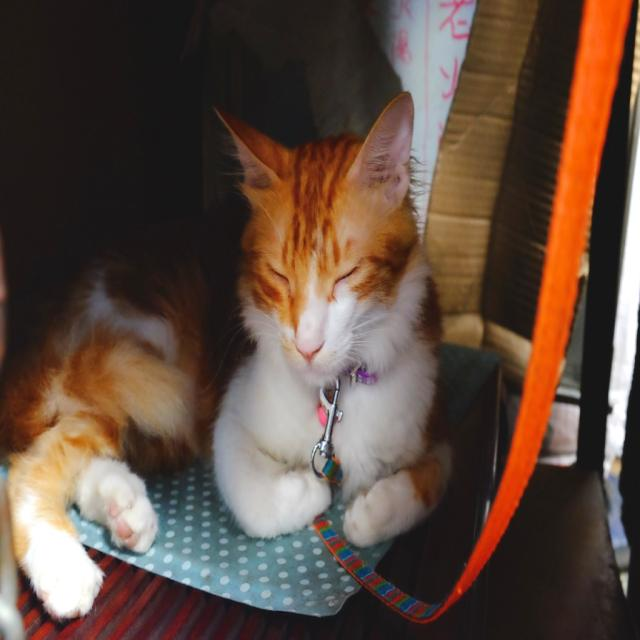Cat: (193, 91, 445, 559)
